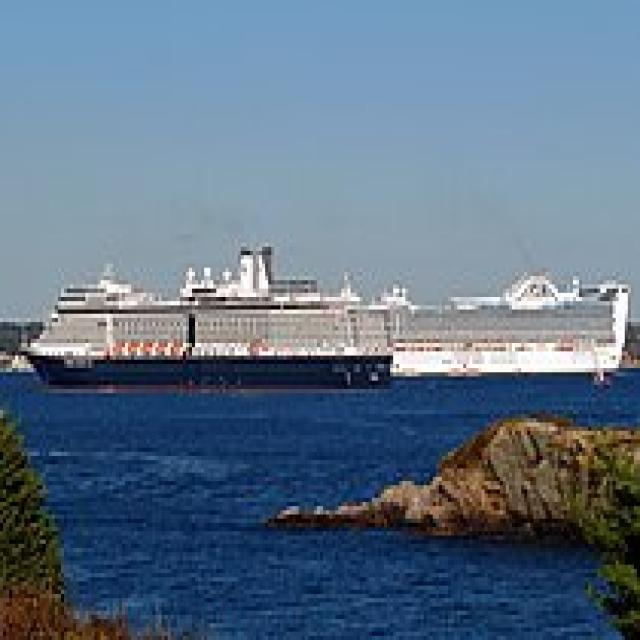Cruise: (12, 238, 396, 394), (332, 264, 628, 376)
